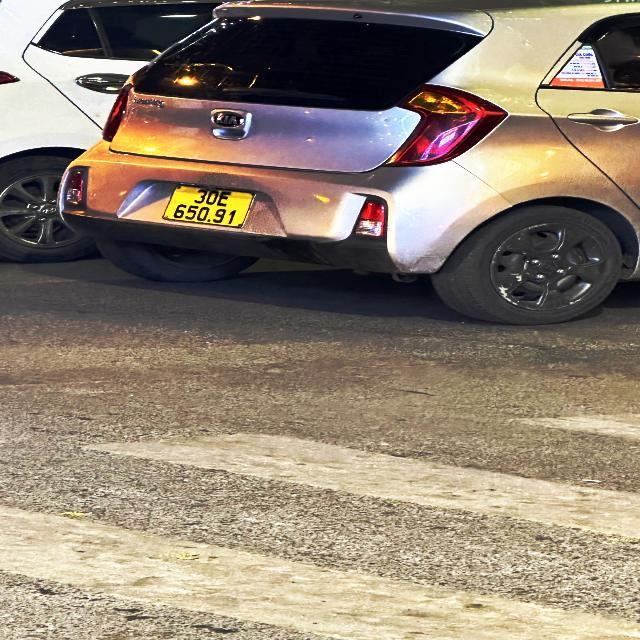license_plate: (161, 184, 259, 230)
